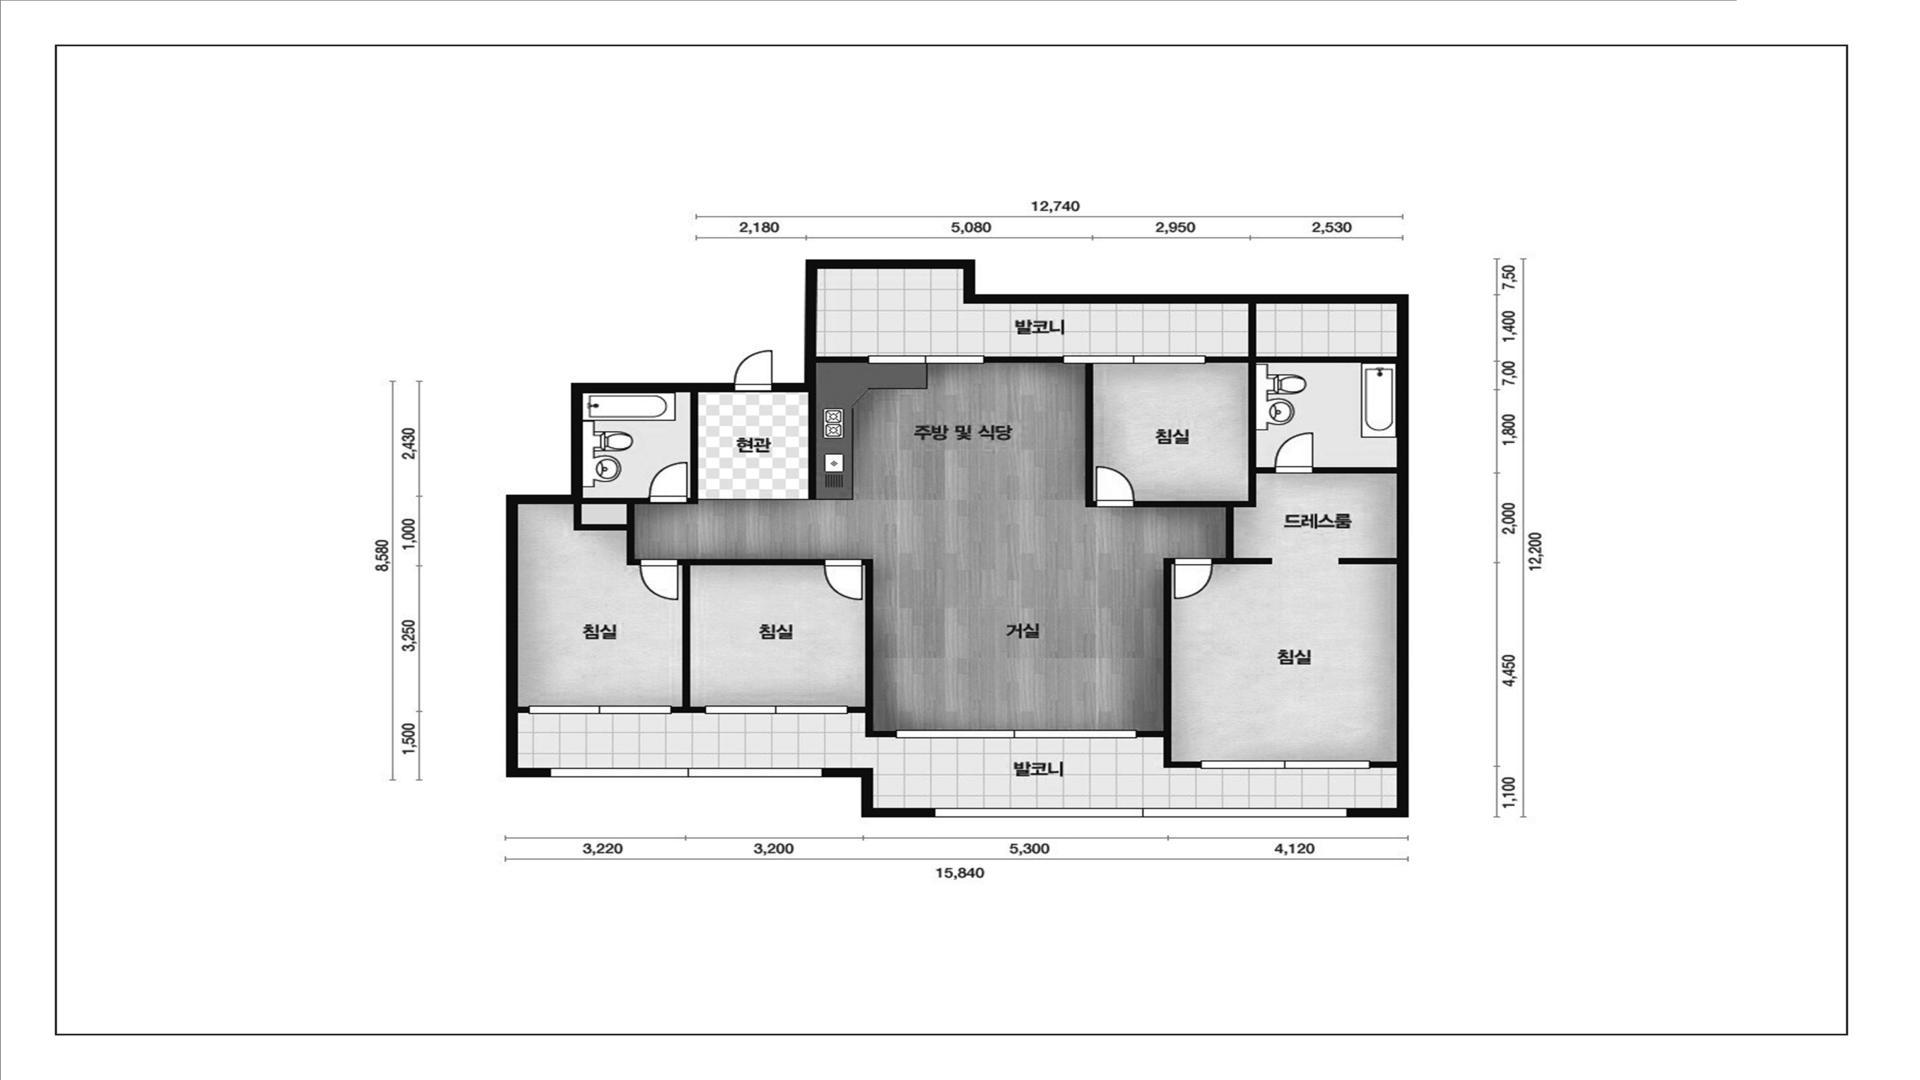door: (733, 350, 773, 393), (648, 462, 688, 504), (1095, 465, 1135, 507), (1274, 432, 1314, 474), (1173, 558, 1213, 600), (824, 559, 864, 600), (639, 559, 679, 600)
wall: (774, 260, 1408, 817), (506, 383, 733, 777), (1135, 304, 1397, 564), (672, 559, 824, 713), (1137, 558, 1200, 768), (849, 559, 894, 737), (823, 768, 934, 817), (573, 498, 648, 565), (1085, 364, 1095, 507), (688, 393, 698, 504), (809, 392, 816, 500), (1314, 467, 1397, 473), (985, 357, 1062, 363), (1339, 558, 1397, 564), (817, 357, 867, 363), (1371, 761, 1397, 768), (518, 707, 528, 713)
window: (934, 808, 1347, 817), (550, 768, 822, 777), (894, 729, 1137, 739), (1201, 760, 1371, 769), (704, 705, 848, 714), (1062, 355, 1206, 364), (529, 705, 672, 714), (867, 355, 985, 364)
